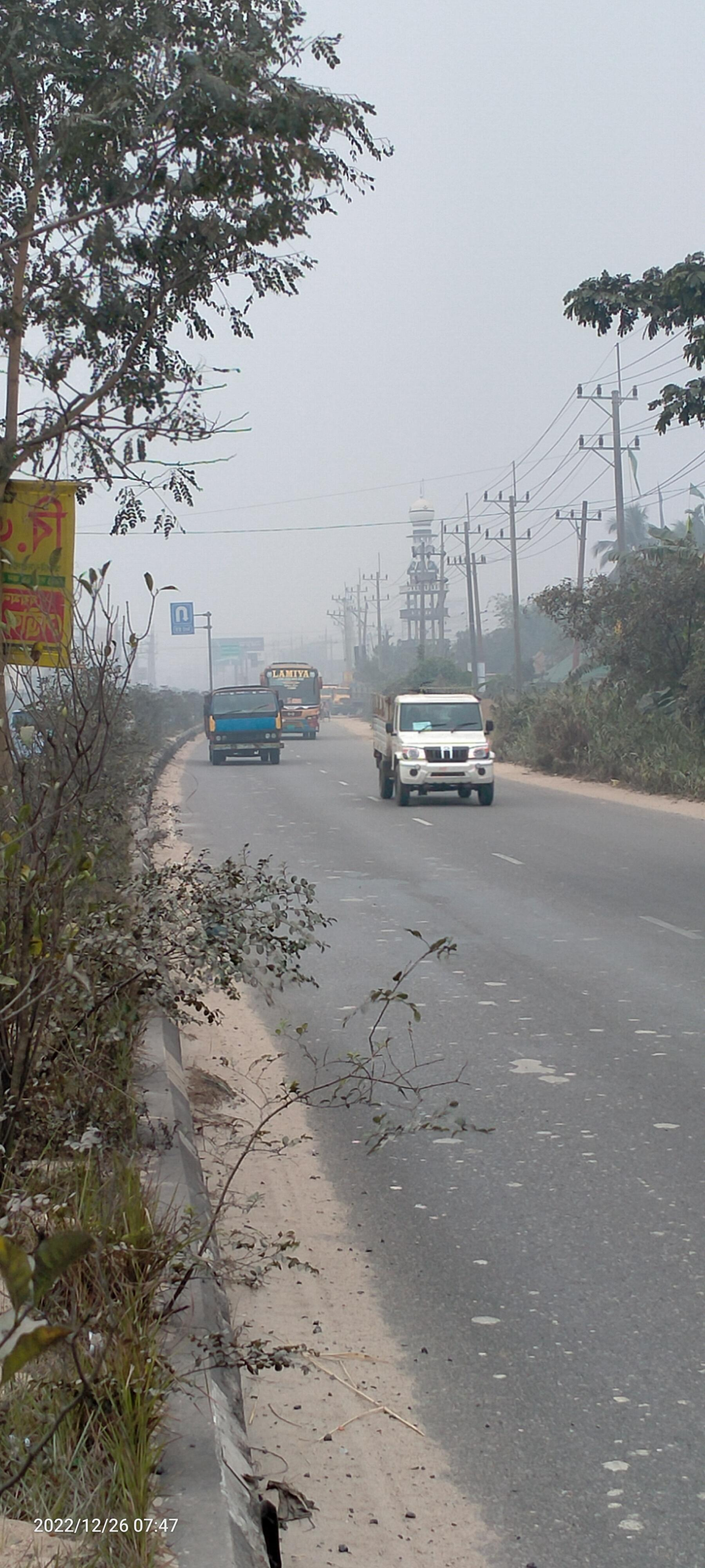Bus: (257, 657, 329, 747)
Truck: (363, 678, 511, 809), (200, 680, 286, 767)
